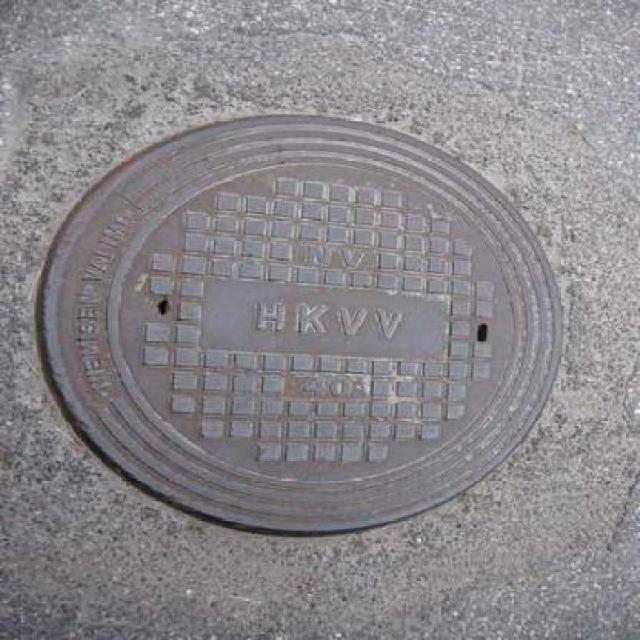Manhole: (32, 108, 580, 542)
